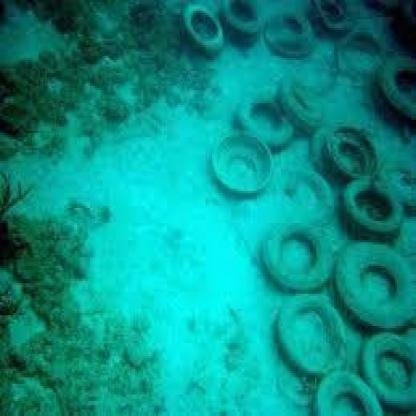tire: (257, 212, 360, 309), (324, 236, 416, 343), (324, 150, 416, 247), (204, 116, 292, 204), (275, 292, 355, 388), (228, 88, 308, 163), (361, 324, 416, 416), (322, 356, 390, 416), (376, 38, 416, 130), (182, 6, 236, 71), (256, 2, 314, 58), (336, 128, 376, 184), (214, 2, 270, 32)
